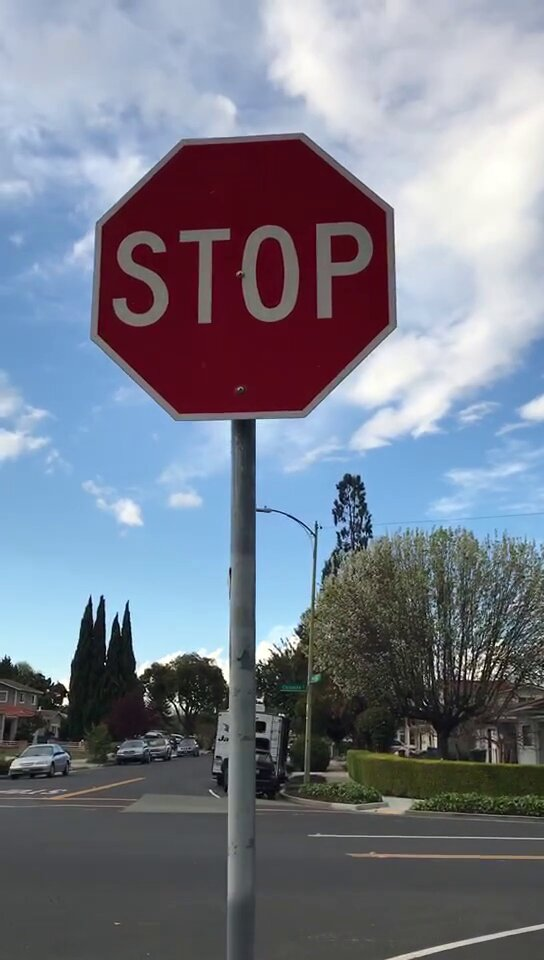stop_sign: (96, 137, 397, 418)
